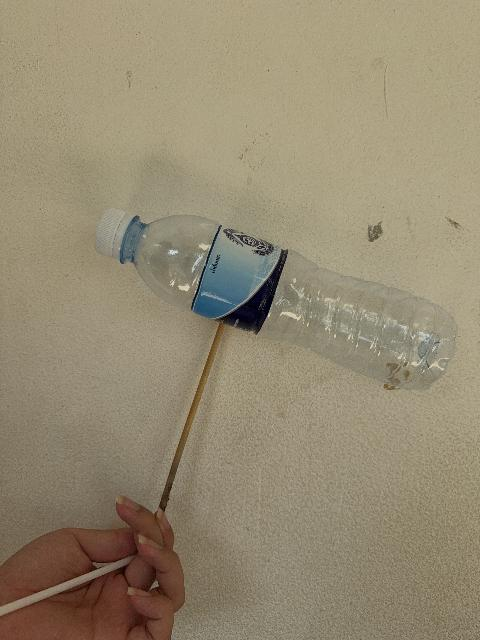bottle: (96, 210, 457, 389)
